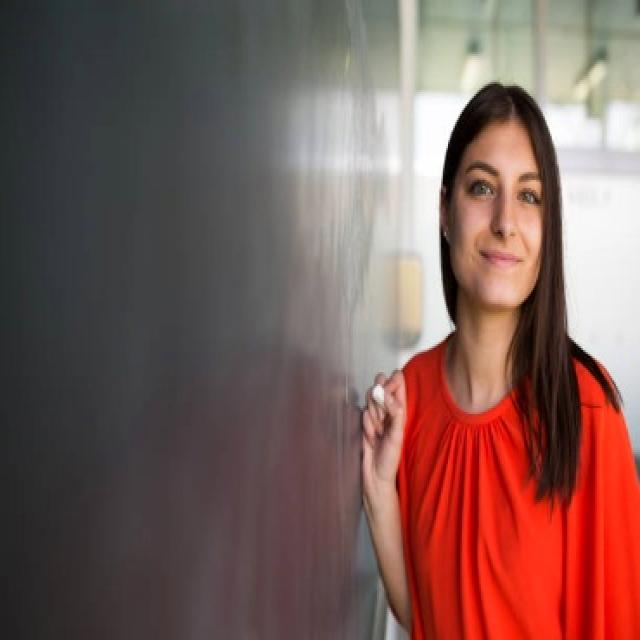adult: (353, 73, 640, 640)
